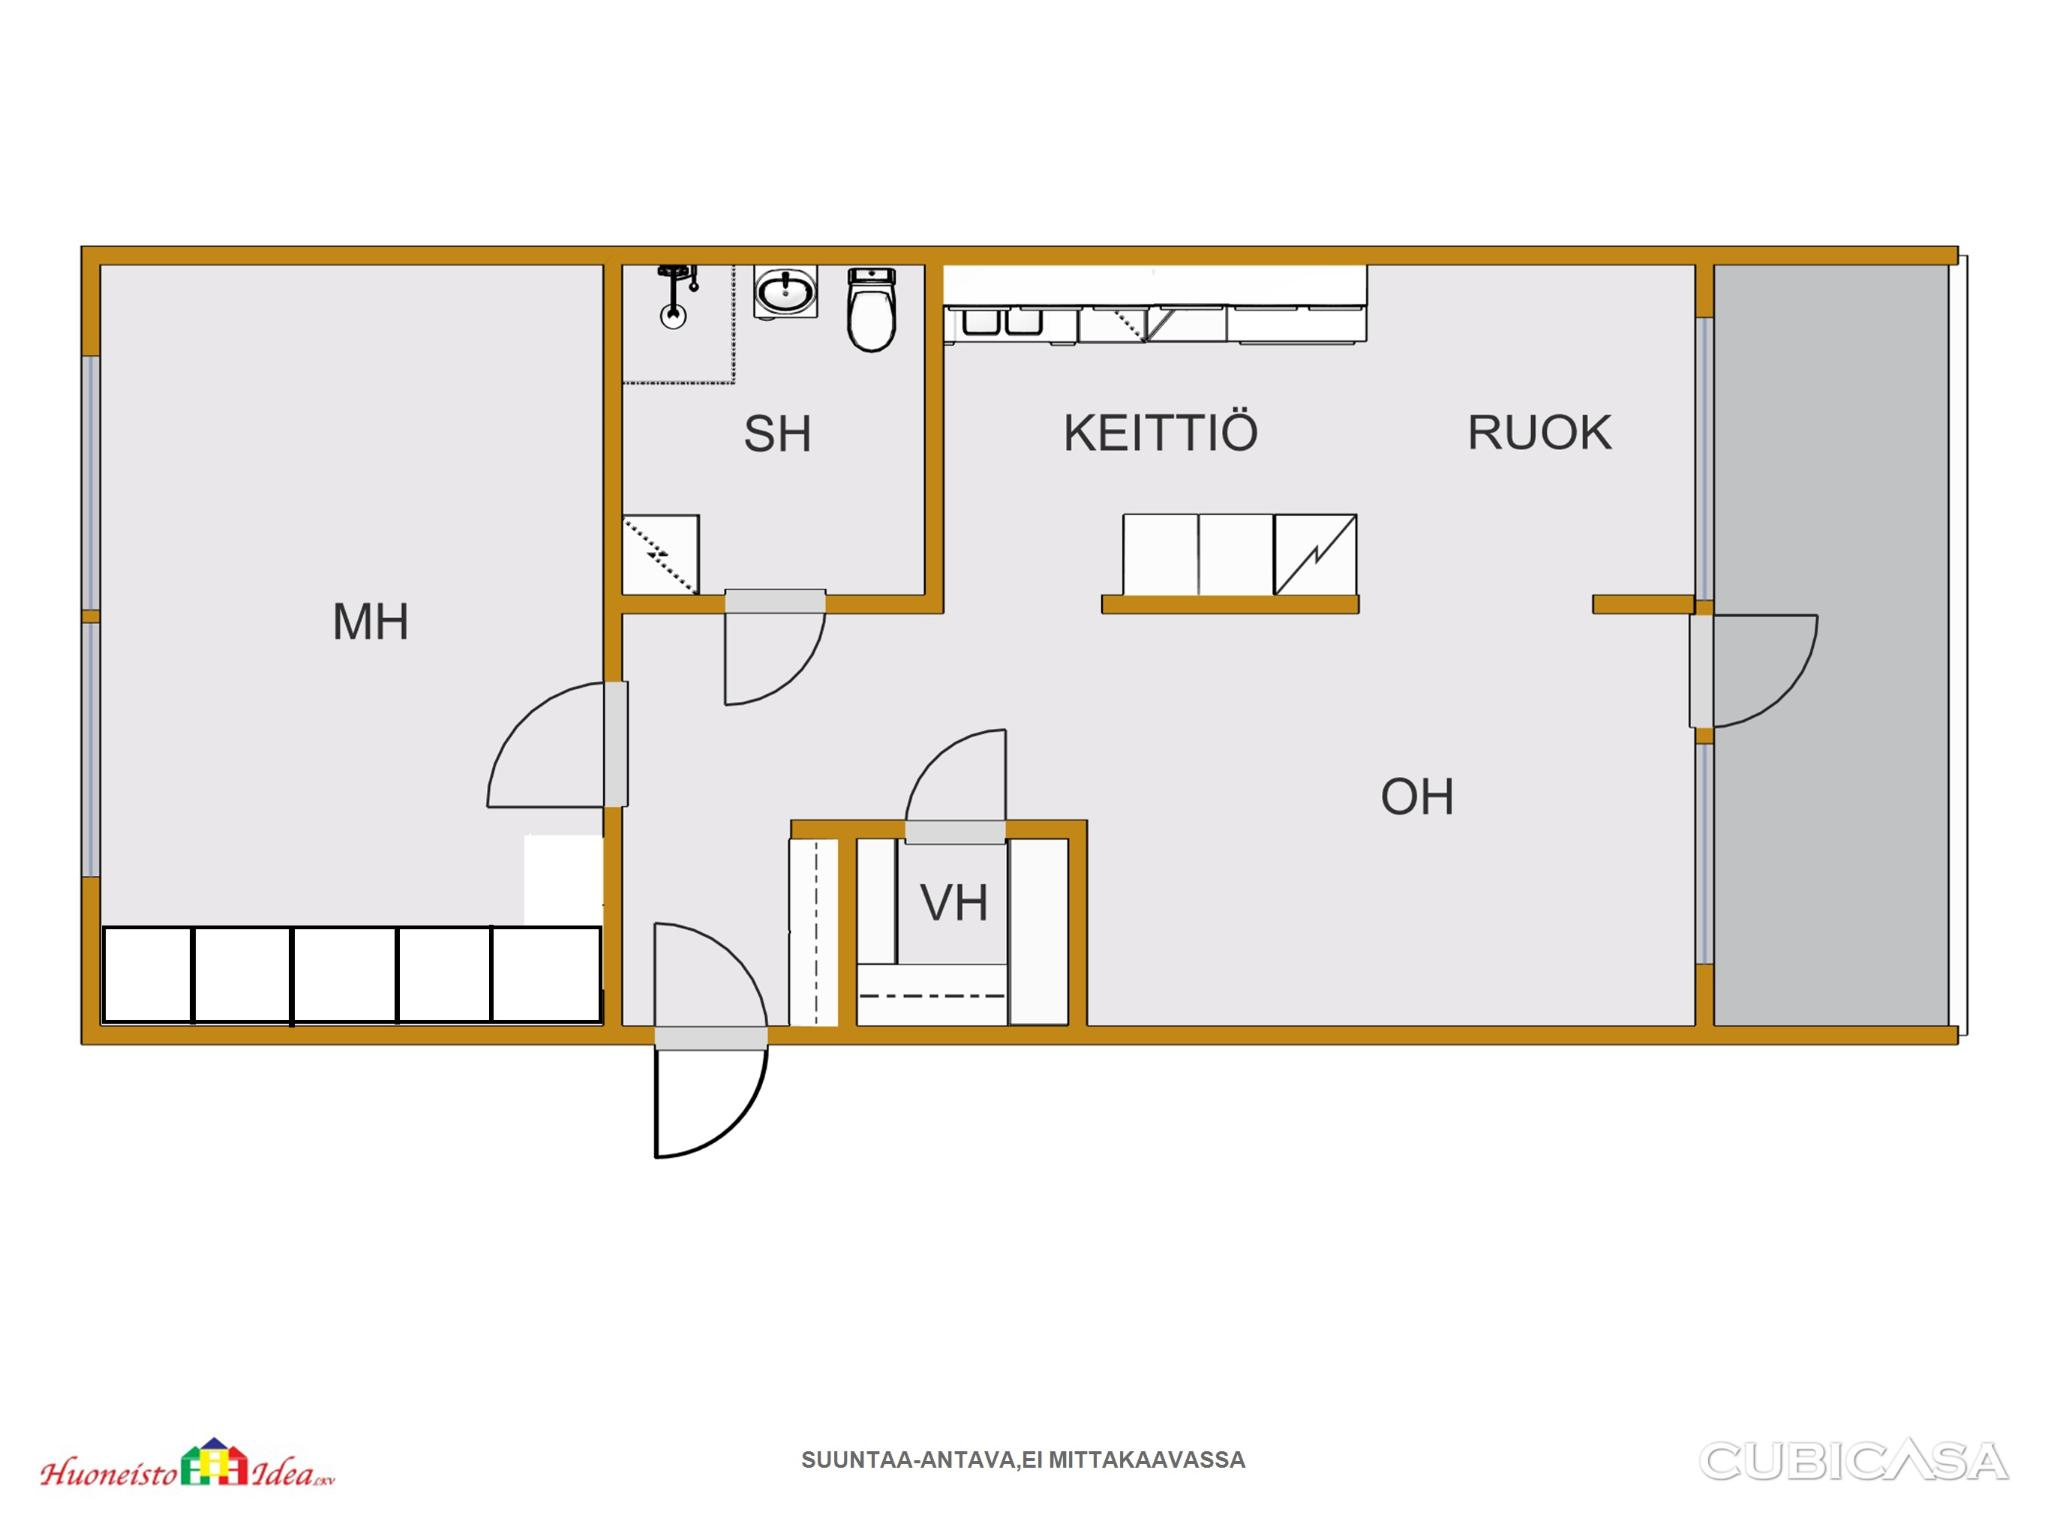bathroom: (622, 268, 927, 595)
door: (482, 671, 637, 821), (1682, 611, 1827, 733), (642, 916, 772, 1049), (650, 1036, 782, 1167), (713, 574, 839, 712), (892, 720, 1018, 854)
perimeter: (77, 244, 1716, 1047)
window: (1685, 302, 1727, 613), (69, 347, 111, 621), (73, 618, 113, 886), (1687, 729, 1725, 983)
